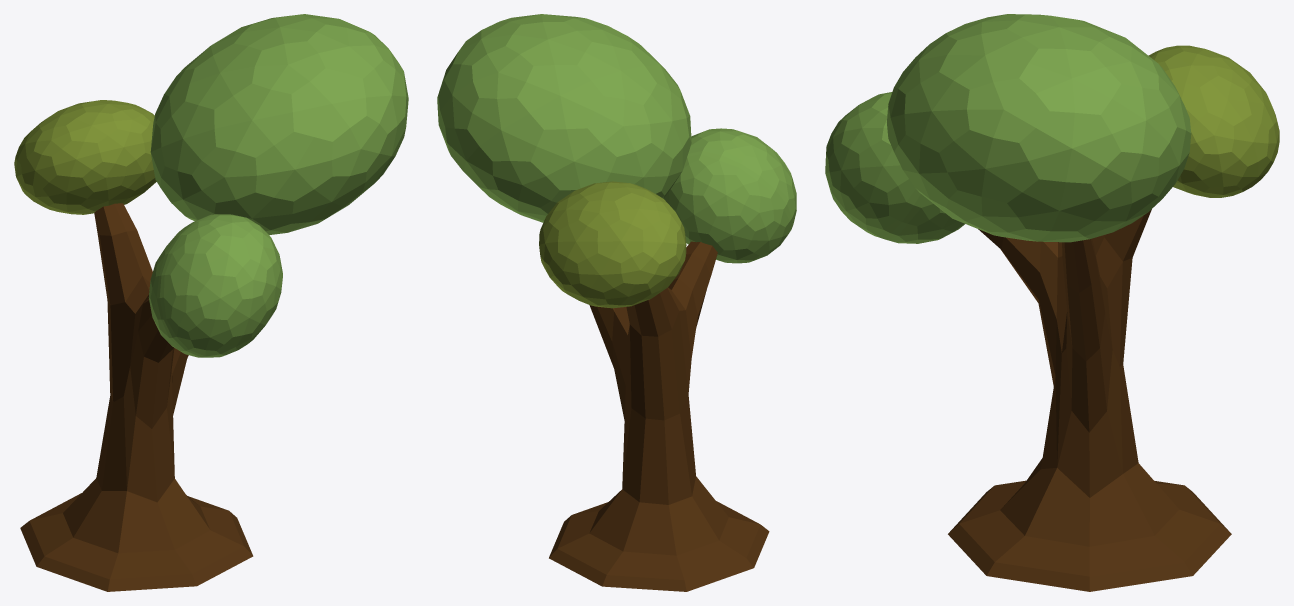
The model's file is RoundTree_v.1.2.fbx.
The picture shows the model from 3 angles, left to right: view 1: azimuth 30°, elevation 25°; view 2: azimuth 150°, elevation 25°; view 3: azimuth 270°, elevation 25°; orthographic projection. The views are drawn at different scales.
Parts seen in each view (by area): view 1: Stump; view 2: Stump; view 3: Stump.
Boxes of the visible parts, box(x1,y1,x2,y2) form: Stump: box(14, 14, 408, 591); Stump: box(437, 14, 796, 591); Stump: box(825, 14, 1279, 591).
Size of the model in its own units: 370 by 529 by 366.
